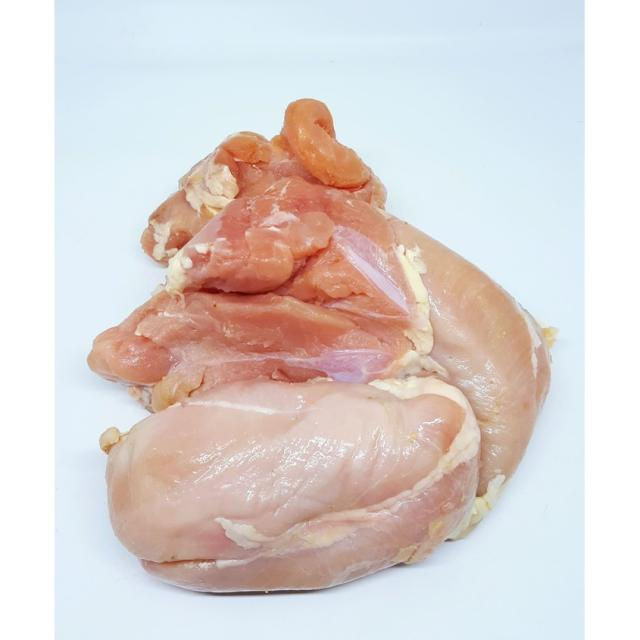Ayam: (99, 97, 546, 591)
